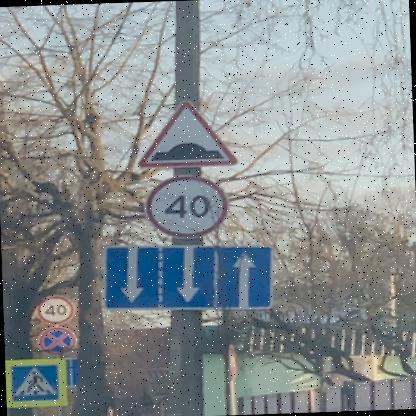crosswalk: (5, 360, 60, 402)
speedlimit: (144, 173, 230, 239), (34, 294, 72, 324)
